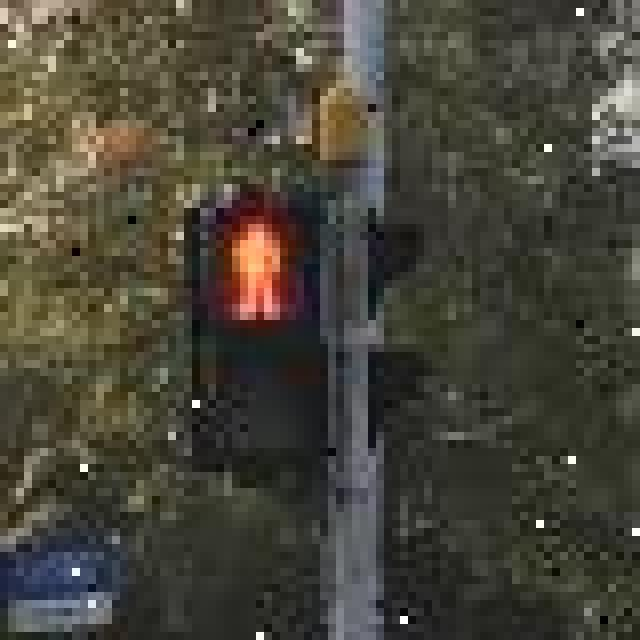redlight: (192, 176, 344, 464)
